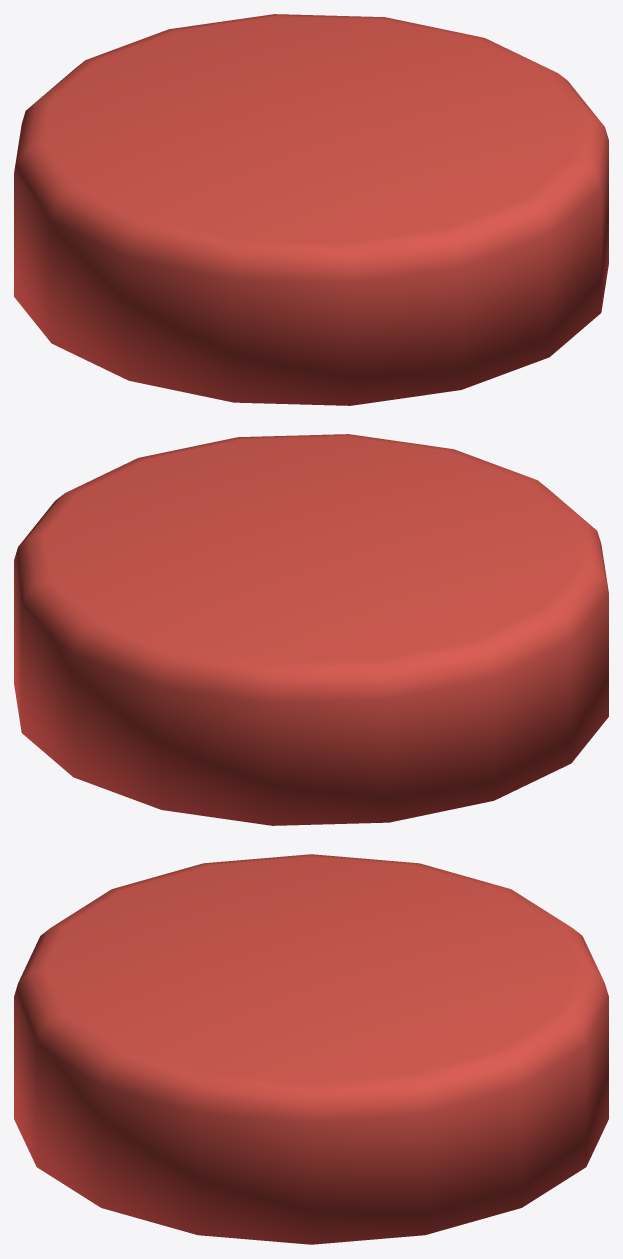
File: Button_Red.fbx
The picture shows the model from 3 angles, top to bottom: view 1: azimuth 30°, elevation 25°; view 2: azimuth 150°, elevation 25°; view 3: azimuth 270°, elevation 25°; orthographic projection.
Visible parts, largest first — view 1: Button_Red; view 2: Button_Red; view 3: Button_Red.
Boxes of the visible parts, left/top/right/bottom form: Button_Red: left=14, top=14, right=608, bottom=405; Button_Red: left=14, top=434, right=608, bottom=825; Button_Red: left=14, top=854, right=608, bottom=1244.
Bounding box in the file's own units: 0.7224 × 0.1996 × 0.7224.
